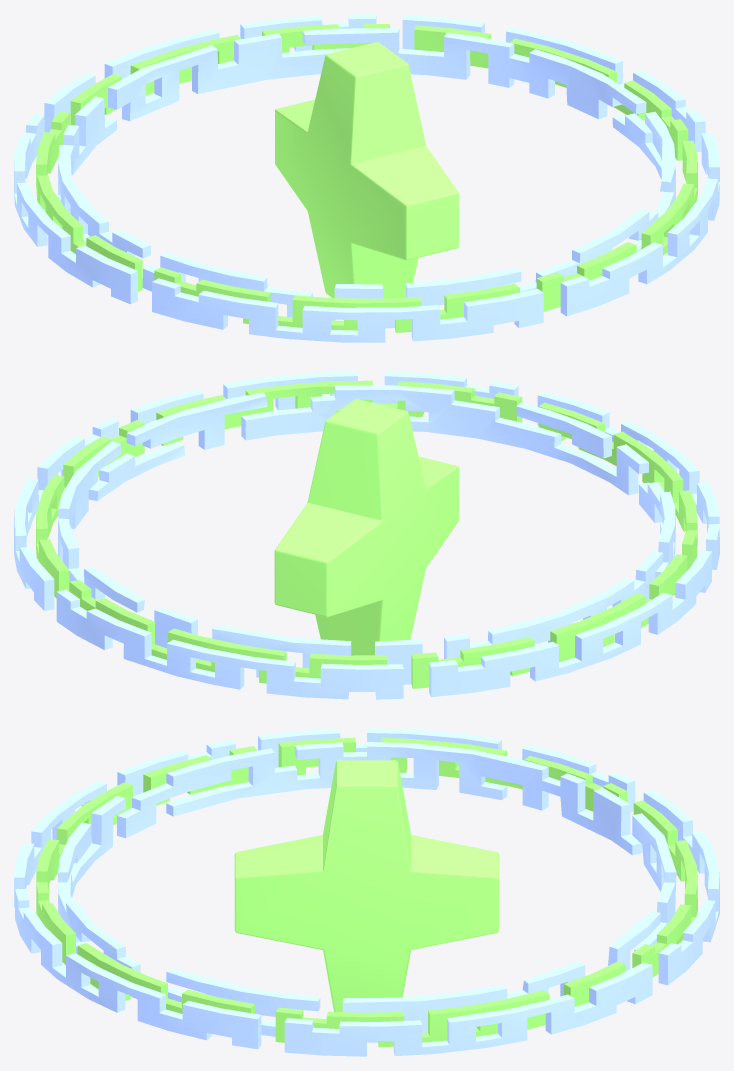
The model's file is HealthDrop.glb.
3 views of the same model, one above another, from view 1: azimuth 30°, elevation 25°; view 2: azimuth 150°, elevation 25°; view 3: azimuth 270°, elevation 25° (orthographic).
Parts seen in each view (by area): view 1: Inner_pipe, Outer_Pipe, Health, Middle_Pipe; view 2: Inner_pipe, Outer_Pipe, Health, Middle_Pipe; view 3: Health, Inner_pipe, Outer_Pipe, Middle_Pipe.
Boxes of the visible parts, <box> form: Inner_pipe: <box>58,28,675,328</box>; Outer_Pipe: <box>14,14,719,342</box>; Health: <box>275,42,458,298</box>; Middle_Pipe: <box>36,23,697,332</box>; Inner_pipe: <box>58,385,675,684</box>; Outer_Pipe: <box>14,371,719,699</box>; Health: <box>274,399,458,655</box>; Middle_Pipe: <box>36,380,697,688</box>; Health: <box>234,760,499,1011</box>; Inner_pipe: <box>58,742,676,1042</box>; Outer_Pipe: <box>14,728,719,1056</box>; Middle_Pipe: <box>36,737,697,1047</box>.
Bounding box in the file's own units: 0.08 × 0.03 × 0.08.
